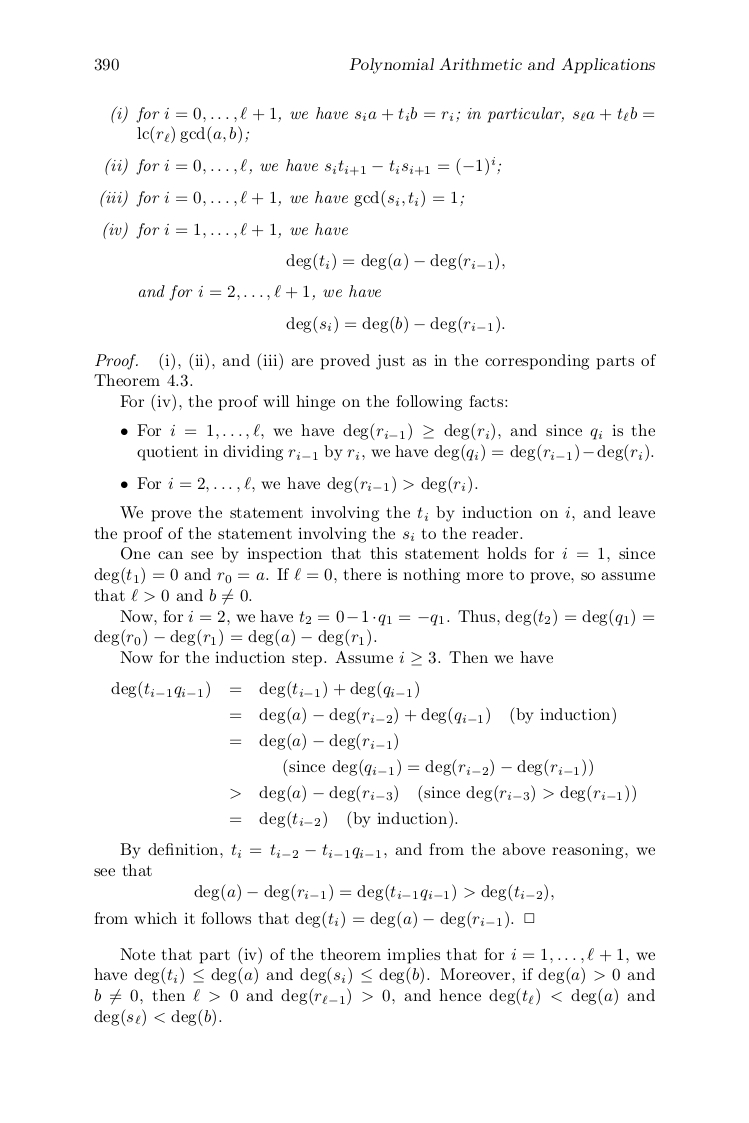formula: (230, 784, 635, 803), (230, 706, 615, 725), (194, 883, 553, 902), (283, 758, 592, 777), (111, 680, 418, 699), (230, 810, 457, 829), (286, 252, 504, 271), (286, 315, 504, 334), (230, 732, 397, 751)
